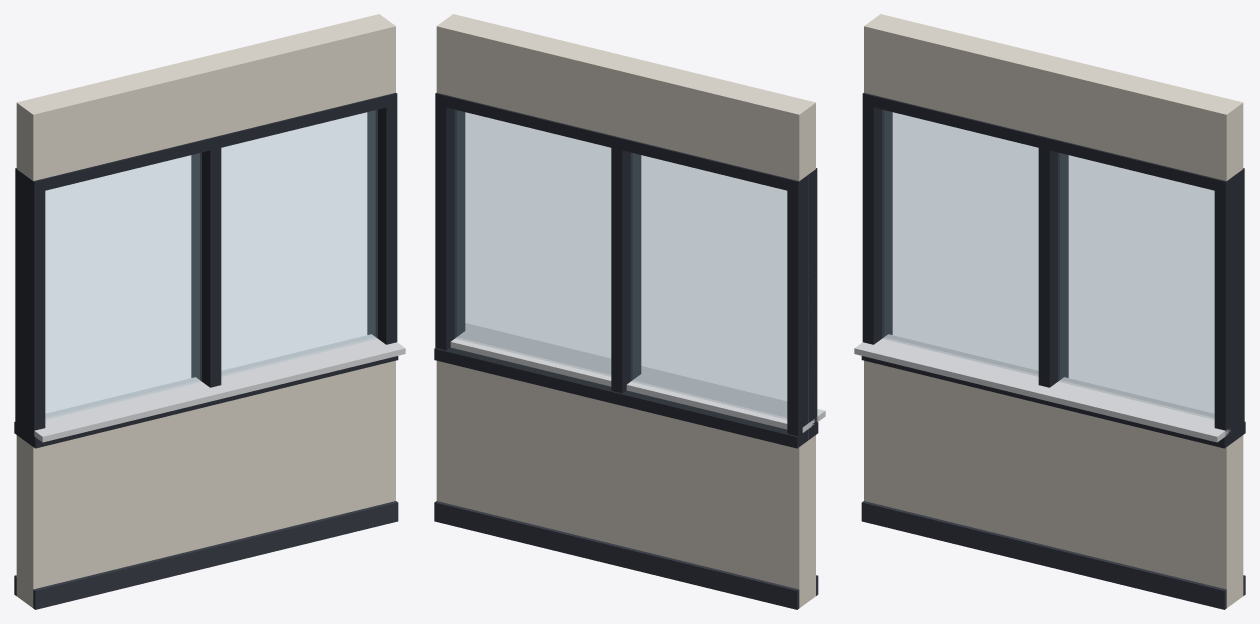
File: WallWindow_2m.fbx
3 renders of one model, left to right at view 1: azimuth 30°, elevation 25°; view 2: azimuth 150°, elevation 25°; view 3: azimuth 330°, elevation 25°, orthographic.
Parts seen in each view (by area): view 1: Glass, Lower, Upper, Sill, Mullion, Baseboard.004, Mullion.001, Mullion.002, FrameTop, FrameBottom; view 2: Glass, Lower, Upper, Sill, Baseboard.005, Mullion, Mullion.001, Mullion.002, FrameBottom, FrameTop; view 3: Glass, Lower, Upper, Sill, Baseboard.004, Mullion.002, Mullion.001, Mullion, FrameTop, FrameBottom.
Boxes of the visible parts, box(x1,y1,x2,y2) form: Glass: box(45, 110, 377, 418); Lower: box(16, 360, 395, 607); Upper: box(16, 14, 395, 181); Sill: box(34, 334, 405, 442); Mullion: box(15, 169, 45, 447); Baseboard.004: box(33, 501, 398, 609); Mullion.001: box(191, 138, 221, 387); Mullion.002: box(367, 105, 397, 344); FrameTop: box(15, 93, 397, 192); FrameBottom: box(14, 356, 398, 448); Glass: box(455, 110, 786, 418); Lower: box(436, 360, 815, 607); Upper: box(436, 14, 815, 181); Sill: box(450, 323, 825, 432); Baseboard.005: box(434, 501, 799, 609); Mullion: box(787, 169, 817, 439); Mullion.001: box(611, 137, 641, 393); Mullion.002: box(435, 95, 465, 350); FrameBottom: box(434, 347, 818, 448); FrameTop: box(435, 92, 817, 193); Glass: box(882, 110, 1214, 418); Lower: box(864, 360, 1243, 607); Upper: box(864, 14, 1243, 181); Sill: box(854, 334, 1230, 442); Baseboard.004: box(861, 501, 1226, 609); Mullion.002: box(1214, 168, 1244, 441); Mullion.001: box(1038, 138, 1068, 387); Mullion: box(862, 105, 892, 344); FrameTop: box(862, 93, 1243, 193); FrameBottom: box(861, 356, 1245, 448).
Size of the model in its own units: 2 by 2.6 by 0.27.
